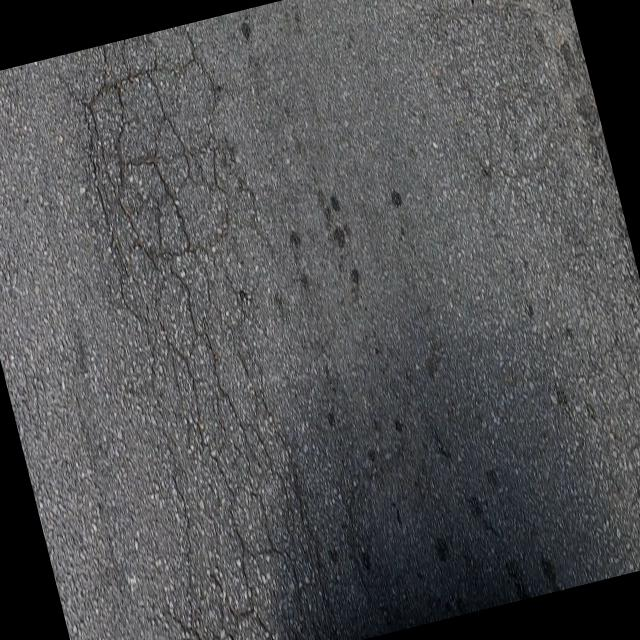Retak-Buaya: (78, 23, 379, 640)
